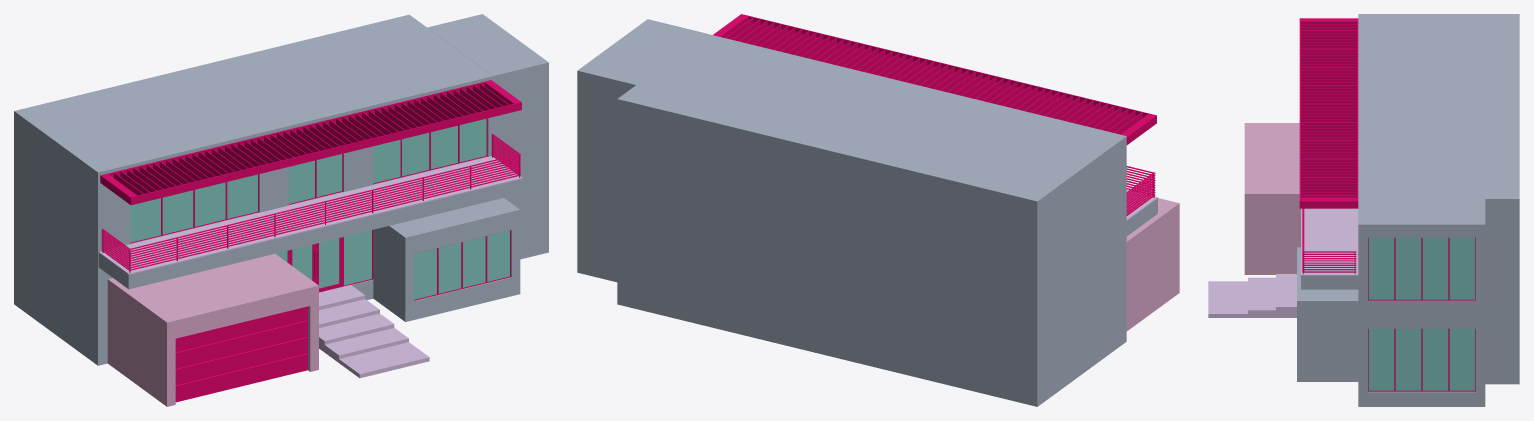
Rendered from House_1_1.FBX.
The picture shows the model from 3 angles, left to right: view 1: azimuth 30°, elevation 25°; view 2: azimuth 150°, elevation 25°; view 3: azimuth 270°, elevation 25°; orthographic projection. The views are drawn at different scales.
Parts seen in each view (by area): view 1: H1-mod-1_LOD0; view 2: H1-mod-1_LOD0; view 3: H1-mod-1_LOD0.
Boxes of the visible parts, bbox=[...] form: H1-mod-1_LOD0: bbox=[14, 14, 548, 406]; H1-mod-1_LOD0: bbox=[577, 14, 1179, 406]; H1-mod-1_LOD0: bbox=[1208, 14, 1519, 406].
Size of what is drawn, in the model's own units: 2168 by 889 by 1352.
